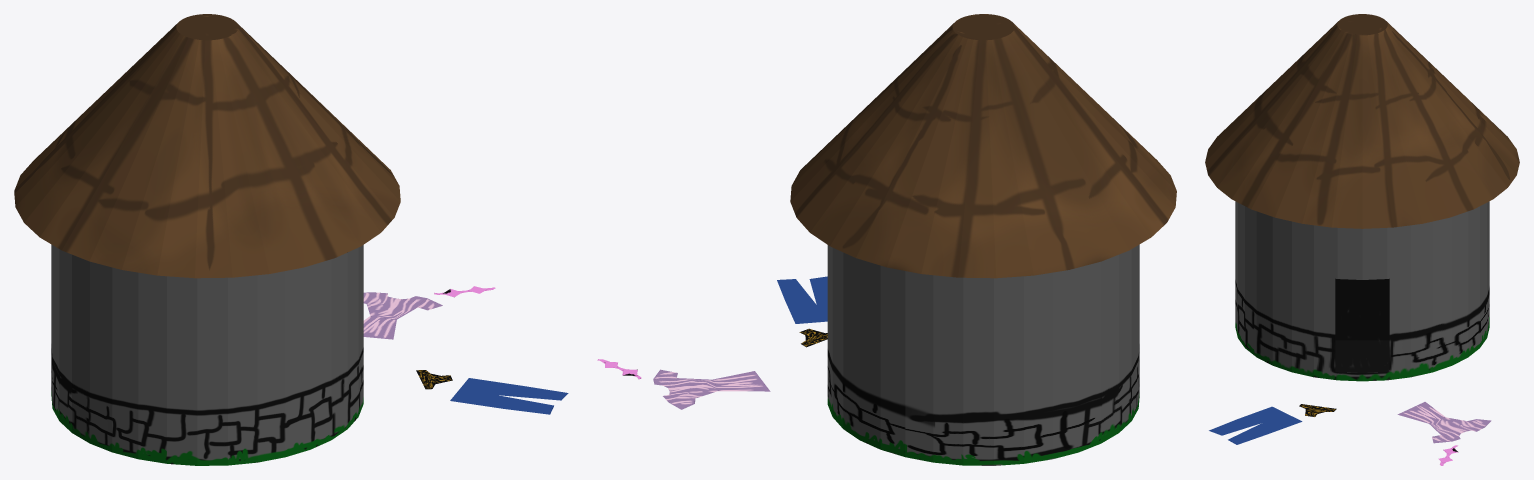
The model's file is Rape_Hut.fbx.
3 renders of one model, left to right at view 1: azimuth 30°, elevation 25°; view 2: azimuth 150°, elevation 25°; view 3: azimuth 270°, elevation 25°, orthographic. The views are drawn at different scales.
Parts seen in each view (by area): view 1: Cone, Cylinder, Plane.001, Plane; view 2: Cone, Cylinder, Plane, Plane.001; view 3: Cone, Cylinder, Plane.001, Plane.
Part boxes in pixels (box(x1,y1,x2,y2)): Cone: box(14, 14, 400, 278); Cylinder: box(51, 244, 363, 465); Plane.001: box(450, 378, 568, 414); Plane: box(363, 292, 442, 339); Cone: box(790, 14, 1176, 278); Cylinder: box(827, 244, 1139, 465); Plane: box(653, 369, 770, 409); Plane.001: box(777, 276, 827, 323); Cone: box(1205, 14, 1519, 228); Cylinder: box(1235, 201, 1489, 381); Plane.001: box(1209, 406, 1302, 444); Plane: box(1397, 402, 1491, 443).
Size of the model in its own units: 629 by 451 by 418.
6 materials, 6 textured.
